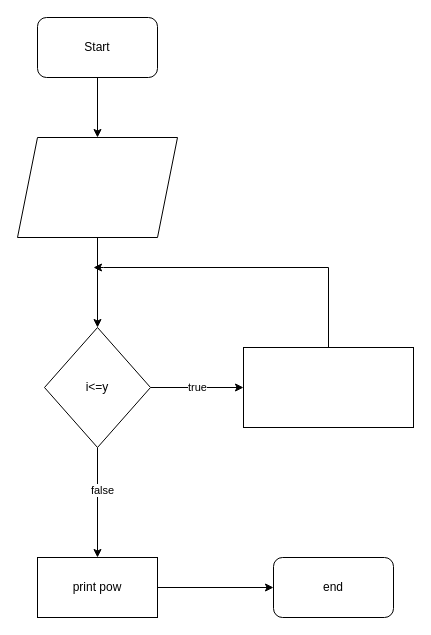
This 431x635 diagram has some shape labels left out. Each missing label, with the box of its shape:
pow=1 i=1 x ,y: (16, 136, 178, 238)
pow=pow*x i=i++1: (242, 346, 414, 428)
